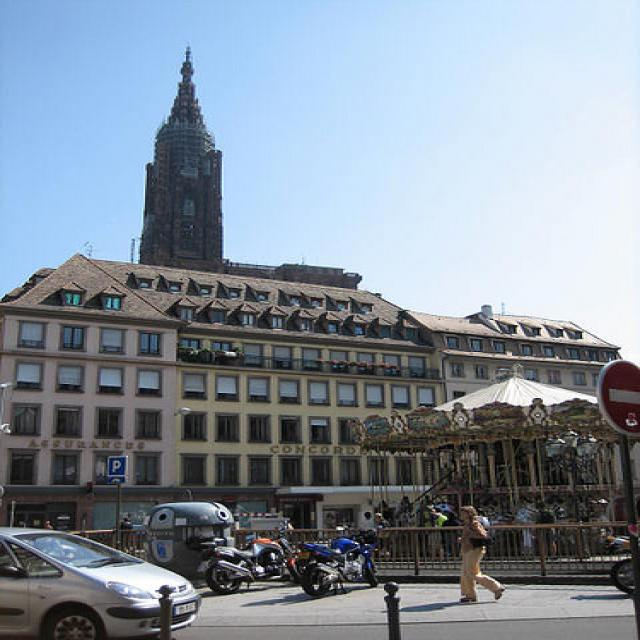motor: (197, 522, 294, 595), (290, 519, 378, 598), (606, 535, 637, 595)
